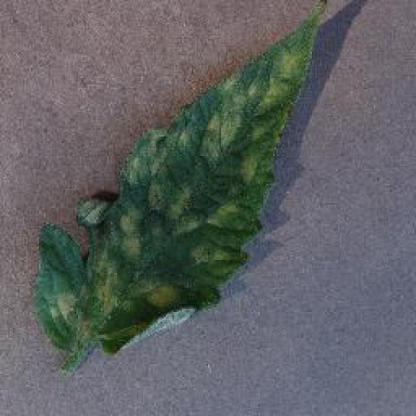Strawberry_Anthracnose_Fruit_Rot: (262, 44, 302, 109), (166, 191, 209, 238), (205, 104, 243, 155), (119, 218, 151, 268), (94, 271, 124, 316), (144, 280, 182, 312)
